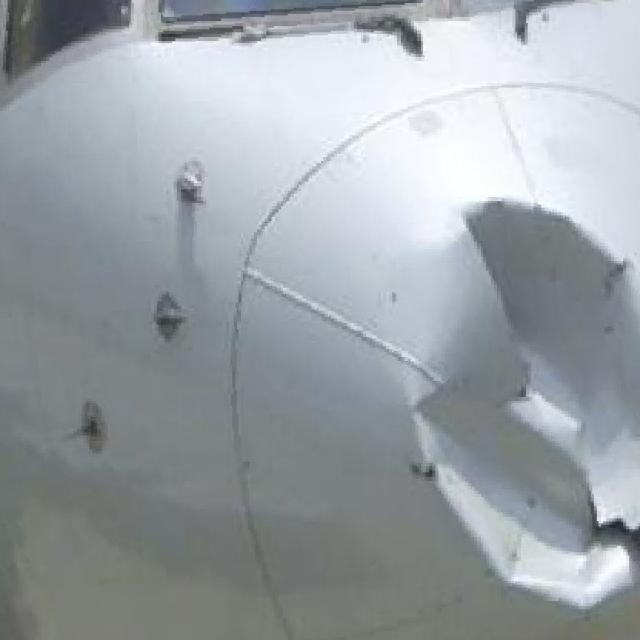dent: (401, 193, 640, 612)
